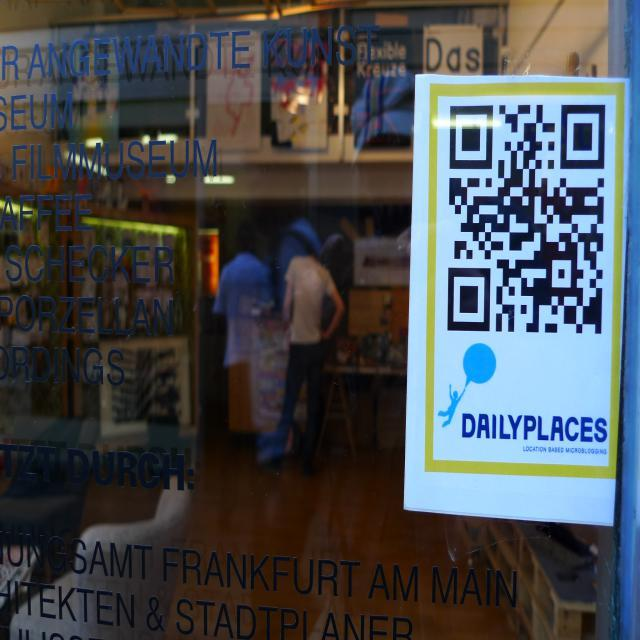qr_code: (447, 105, 606, 335)
